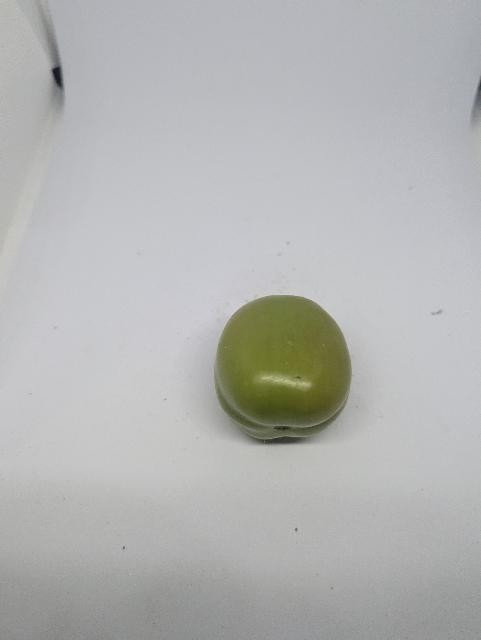green: (192, 279, 369, 470)
